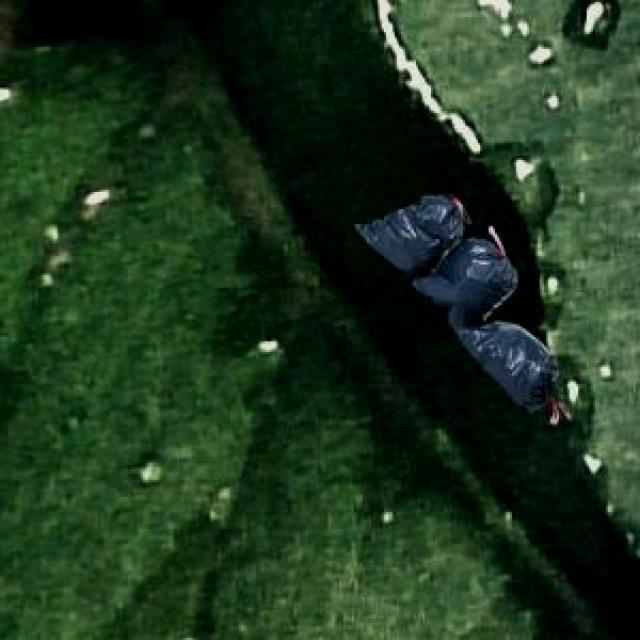Trashbag: (452, 319, 560, 417), (413, 235, 517, 334), (354, 188, 462, 270)
